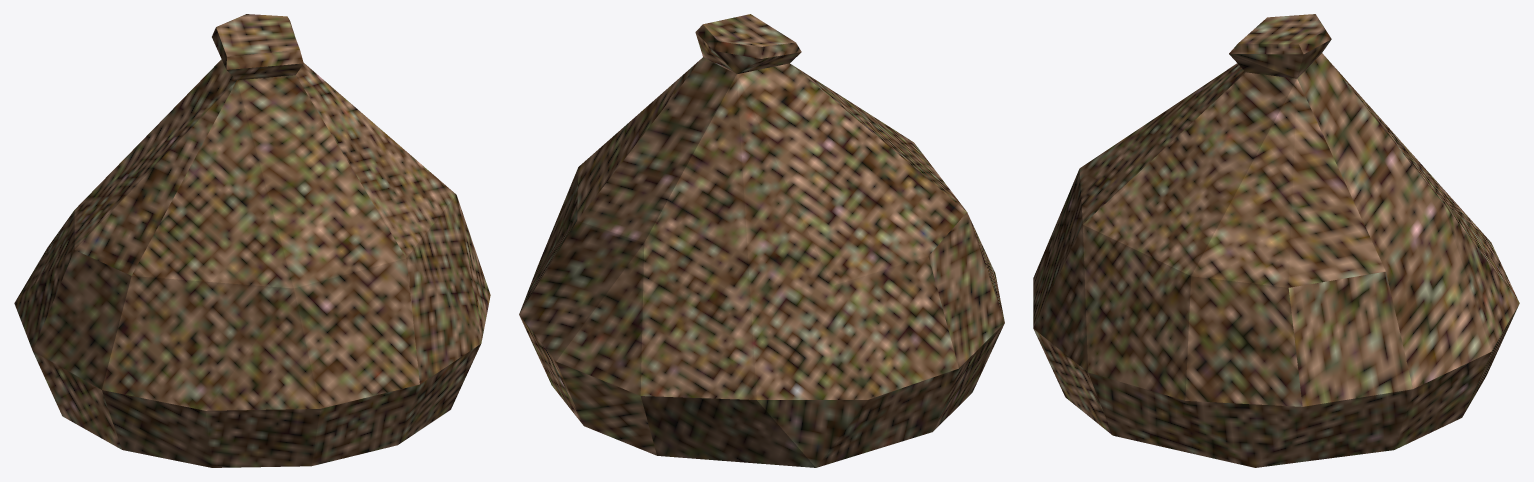
File: sack_item_model.obj
3 views of the same model, side by side, from view 1: azimuth 30°, elevation 25°; view 2: azimuth 150°, elevation 25°; view 3: azimuth 270°, elevation 25° (orthographic). The views are drawn at different scales.
Parts seen in each view (by area): view 1: Sphere; view 2: Sphere; view 3: Sphere.
Boxes of the visible parts, bbox=[...] form: Sphere: bbox=[14, 14, 490, 467]; Sphere: bbox=[519, 14, 1004, 467]; Sphere: bbox=[1033, 14, 1519, 467].
Size of the model in its own units: 0.293 by 0.2477 by 0.2909.
